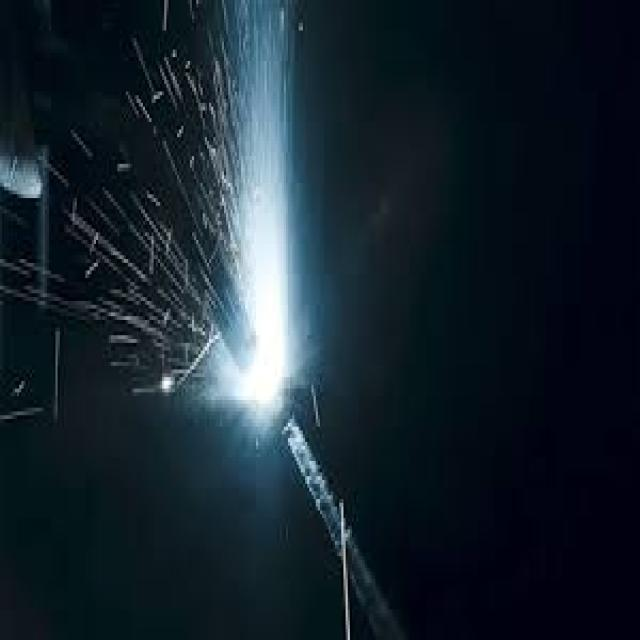welding: (242, 342, 283, 405)
